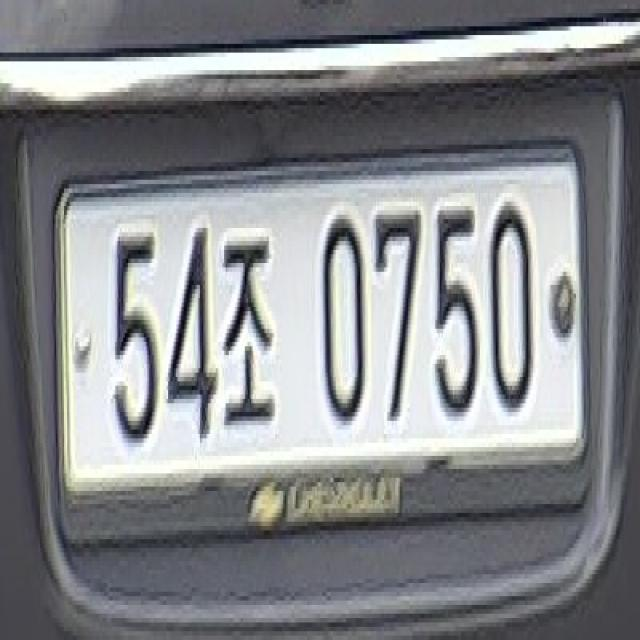0: (488, 175, 544, 438), (308, 193, 369, 434)
4: (160, 228, 221, 451)
5: (109, 219, 166, 460), (434, 180, 483, 421)
7: (378, 188, 432, 434)
jo: (221, 197, 288, 443)
license_plate: (49, 132, 596, 556)
